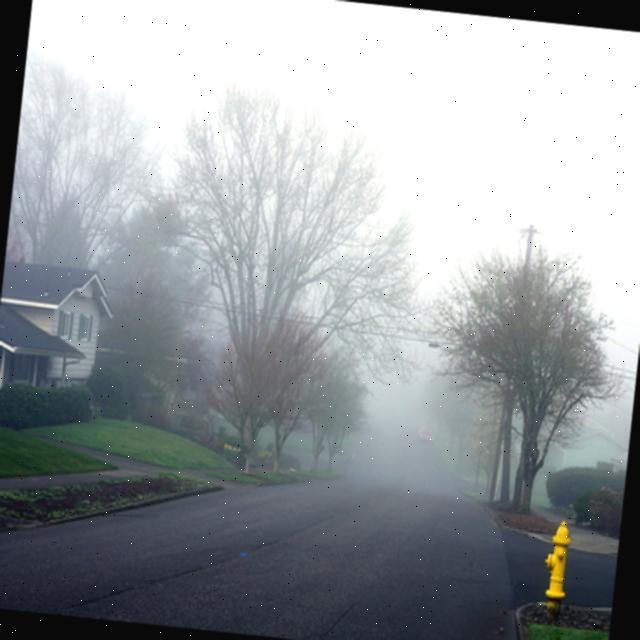fire_hydrant: (537, 516, 572, 620)
